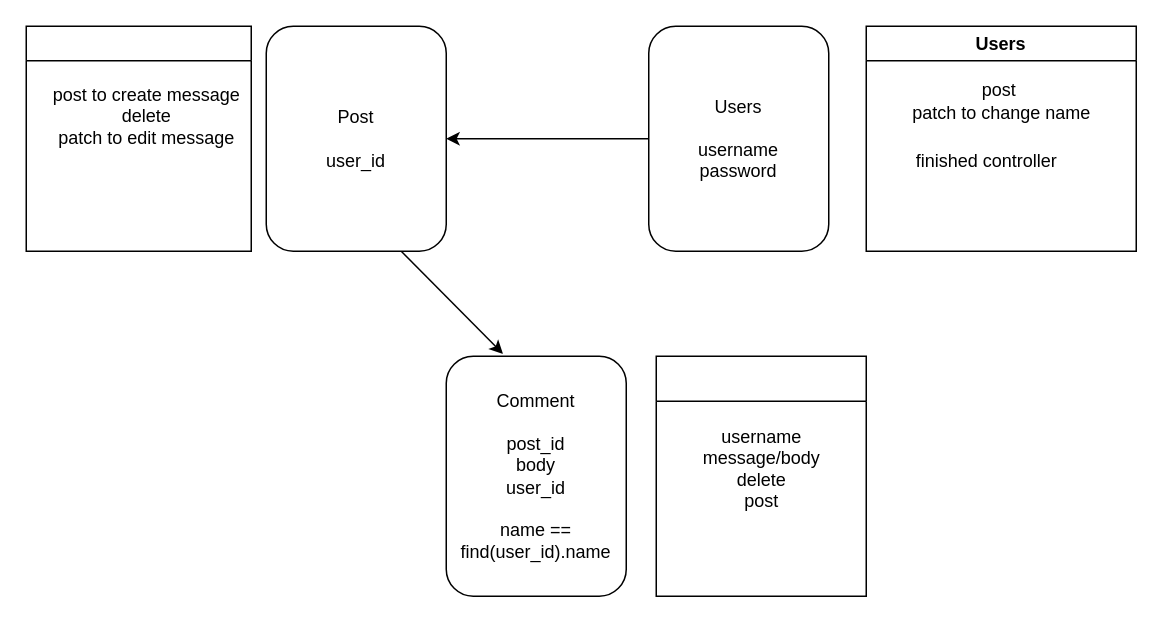
This 1163x623 diagram has some shape labels left out. Each missing label, with the box of its shape:
Chats: (25, 25, 251, 251)
Messages: (655, 355, 866, 596)
